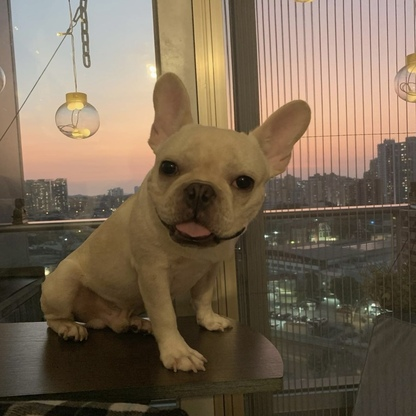bulldog: (35, 69, 315, 374)
